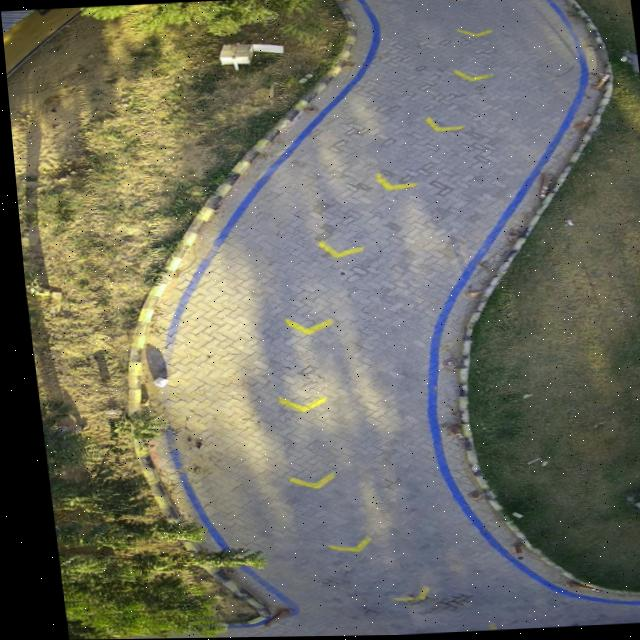No Car: (1, 0, 640, 640)
